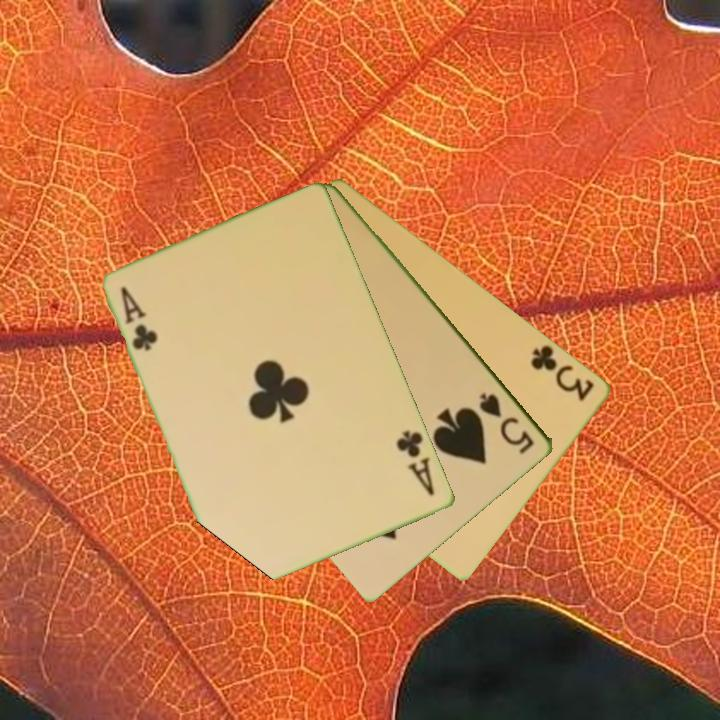3c: (528, 341, 598, 404)
5s: (476, 388, 538, 457)
Ac: (393, 426, 438, 499), (118, 283, 162, 355)
